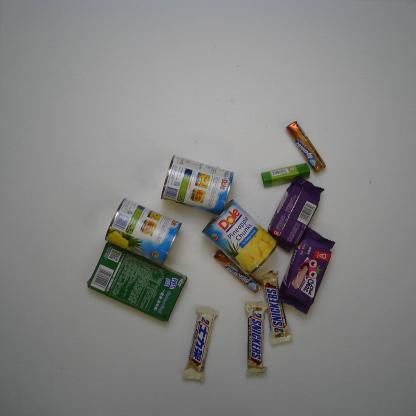Candy: (283, 116, 329, 175), (211, 247, 264, 295)
Canned Food: (198, 197, 281, 277), (102, 193, 184, 270), (160, 153, 235, 216)
Chocolate: (255, 266, 294, 346), (182, 306, 219, 382), (243, 298, 269, 378)
Dessert: (84, 238, 189, 327), (276, 224, 338, 317), (265, 174, 326, 255)
Stationery: (260, 162, 311, 188)
